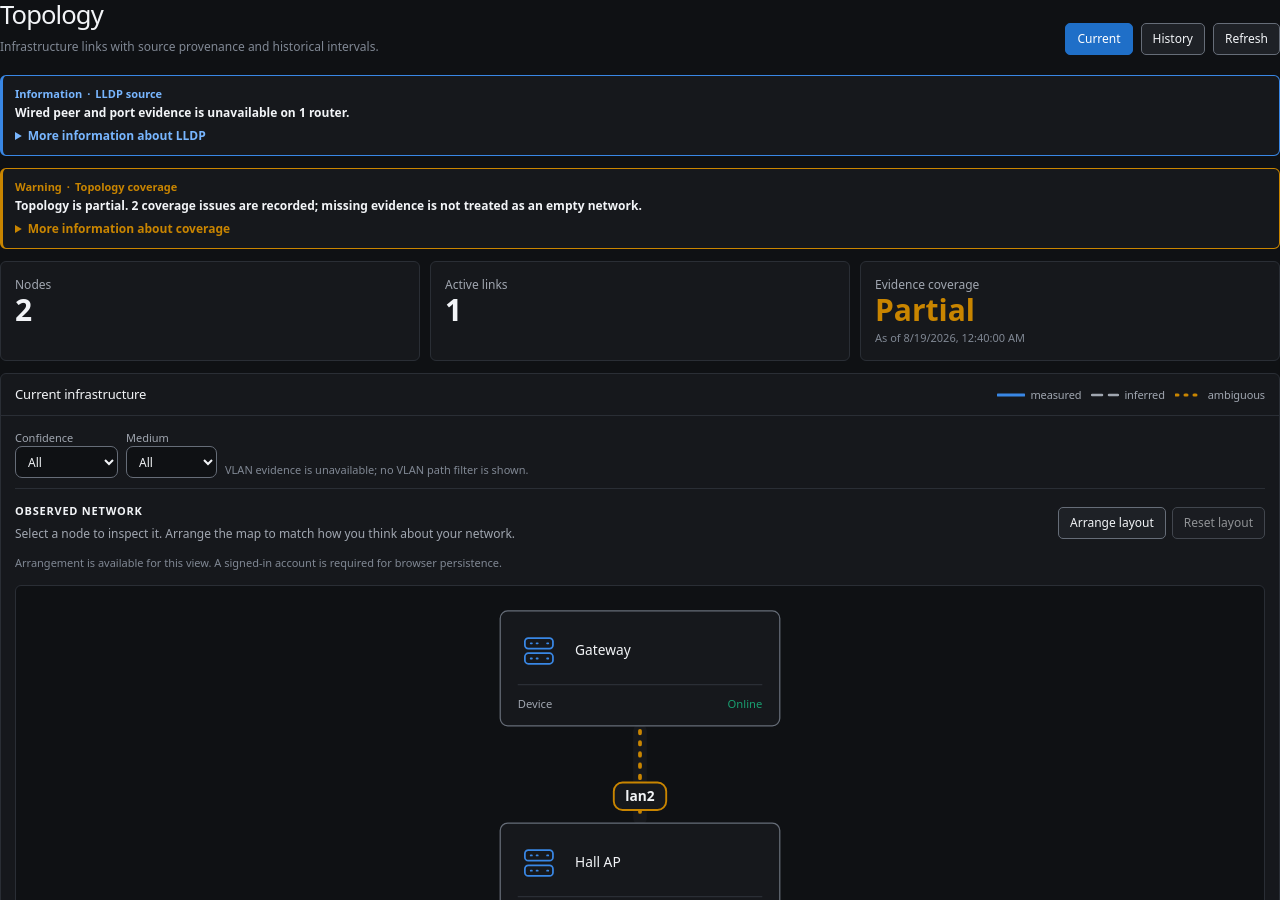
Test: Topology › hides a prior graph when the newly selected mode fails
Click the button "History" at [1173, 39], box [1141,23,1205,55]
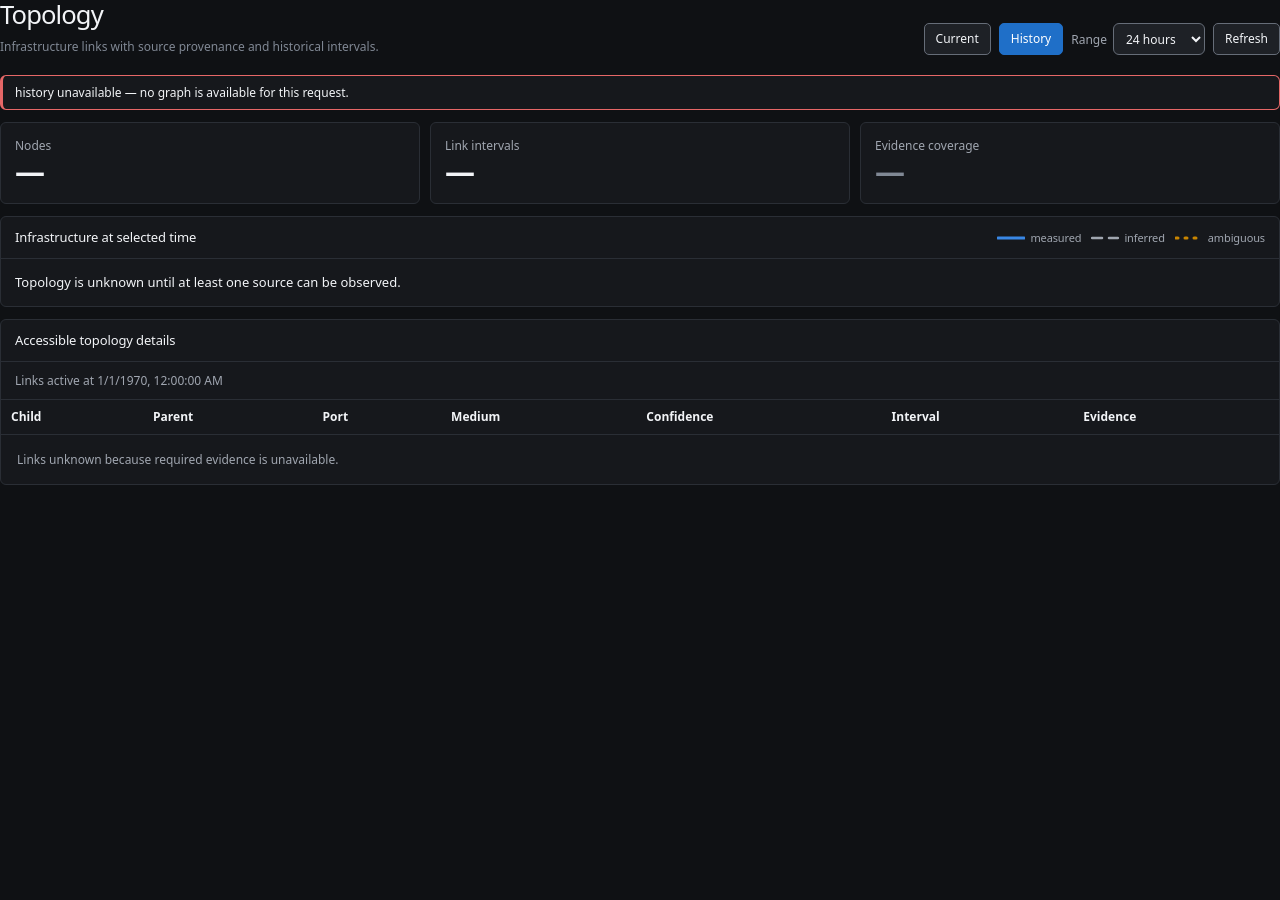
Now the text "history unavailable — no graph is available for this request." is shown, box [15,84,349,101]
